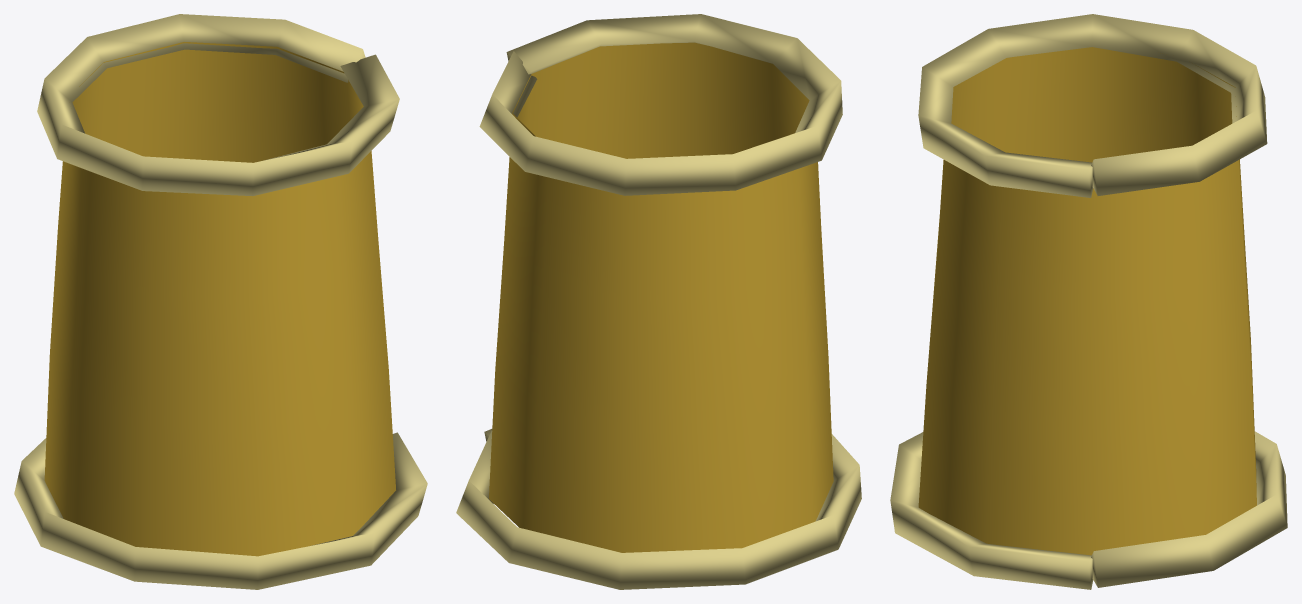
File: gold_armor_bracer.R.glb
The picture shows the model from 3 angles, left to right: view 1: azimuth 30°, elevation 25°; view 2: azimuth 150°, elevation 25°; view 3: azimuth 270°, elevation 25°; orthographic projection.
Visible parts, largest first — view 1: gold_armor_bracer.R; view 2: gold_armor_bracer.R; view 3: gold_armor_bracer.R.
Part boxes in pixels (x1,y1,x2,y2): gold_armor_bracer.R: [14, 14, 427, 589]; gold_armor_bracer.R: [456, 14, 861, 589]; gold_armor_bracer.R: [890, 14, 1287, 589].
Bounding box in the file's own units: 0.1516 × 0.1719 × 0.1476.
